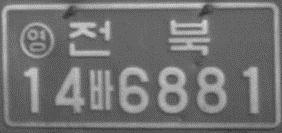1: (18, 65, 50, 113), (237, 65, 266, 114)
4: (54, 66, 85, 113)
6: (117, 66, 148, 114)
8: (156, 66, 188, 114), (195, 66, 227, 113)
바: (87, 69, 115, 111)
영: (19, 21, 54, 60)
전북_D: (66, 19, 211, 59)
